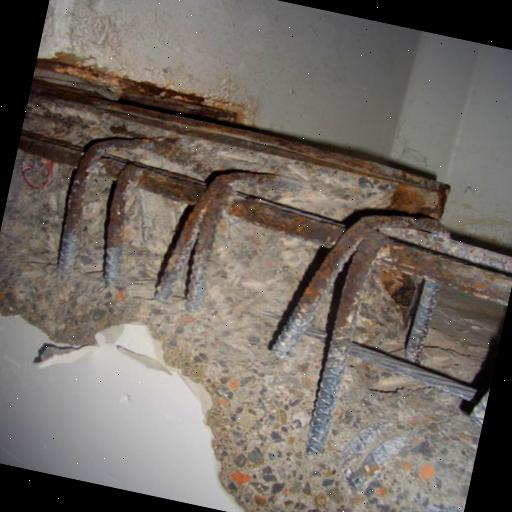spalling: (0, 51, 512, 512)
